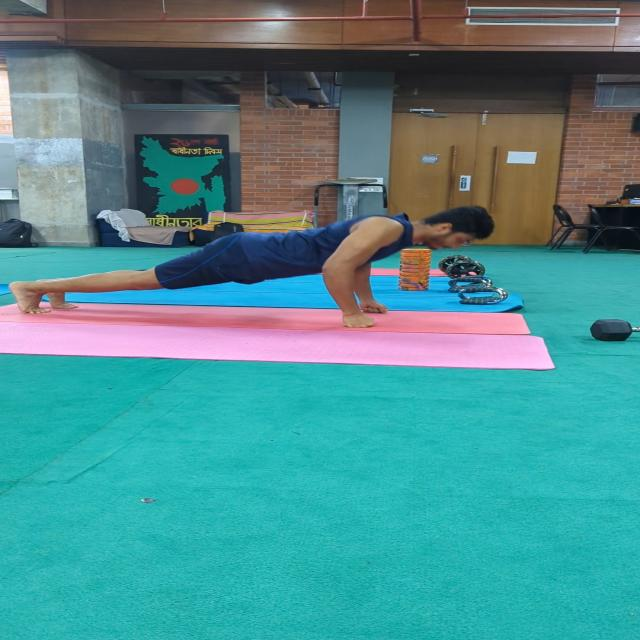Normal_PushUps: (6, 203, 513, 335)
